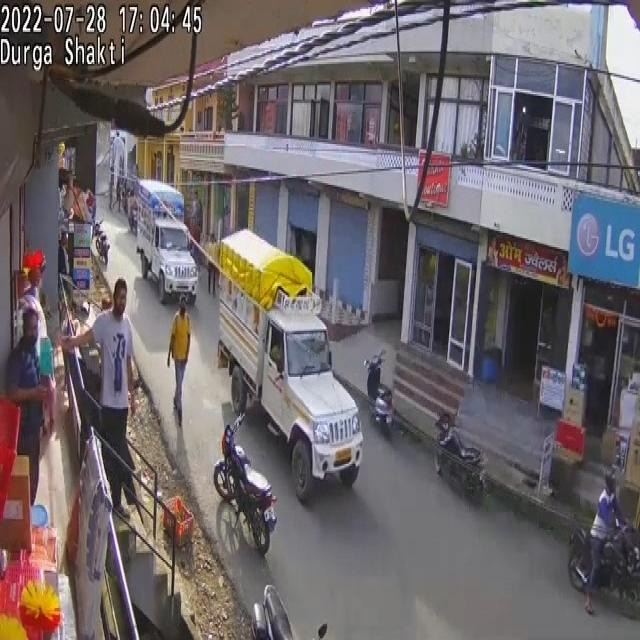non-fight: (60, 279, 138, 518), (6, 308, 49, 508), (584, 471, 632, 616), (167, 295, 191, 424), (207, 236, 217, 296), (187, 187, 203, 212)
